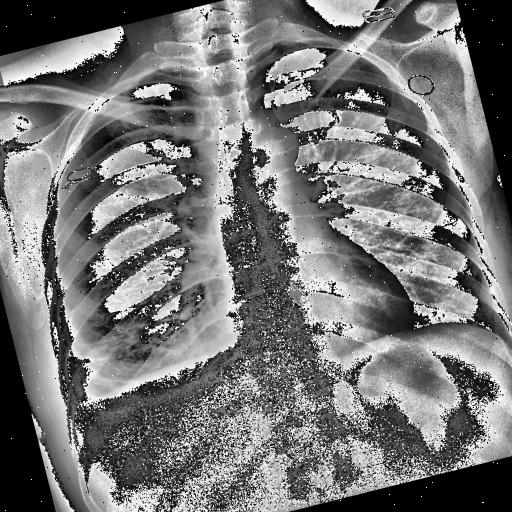10- Pleural effusion: (59, 336, 131, 443), (58, 344, 132, 426), (60, 336, 122, 430)
11- Pleural thickening: (60, 336, 122, 430)
13- Pulmonary fibrosis: (64, 316, 151, 400), (72, 340, 143, 395), (76, 349, 110, 371)
